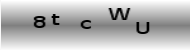8: (32, 16, 46, 28)
U: (135, 20, 150, 34)
W: (107, 6, 131, 20)
c: (80, 19, 92, 29)
t: (50, 13, 61, 25)
